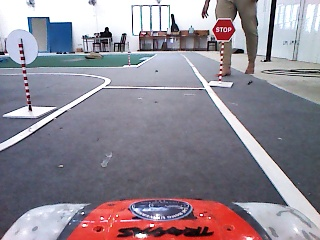stop: (212, 18, 236, 42)
